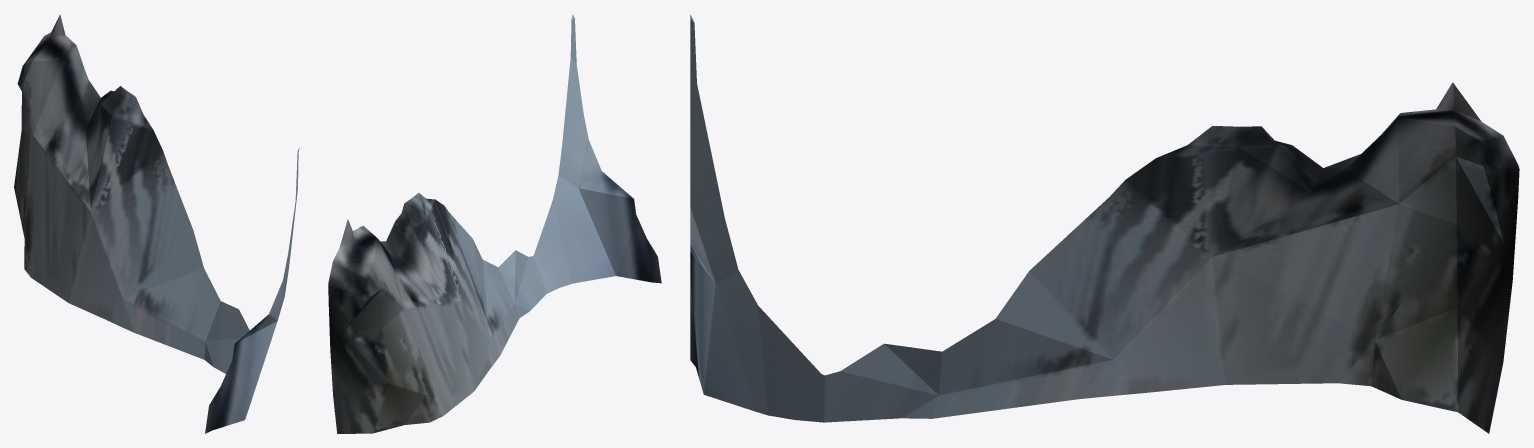
3 views of the same model, side by side, from view 1: azimuth 30°, elevation 25°; view 2: azimuth 150°, elevation 25°; view 3: azimuth 270°, elevation 25° (orthographic). The views are drawn at different scales.
Bounding box in the file's own units: 0.2868 × 0.7619 × 1.36.
1 material, 1 textured.
